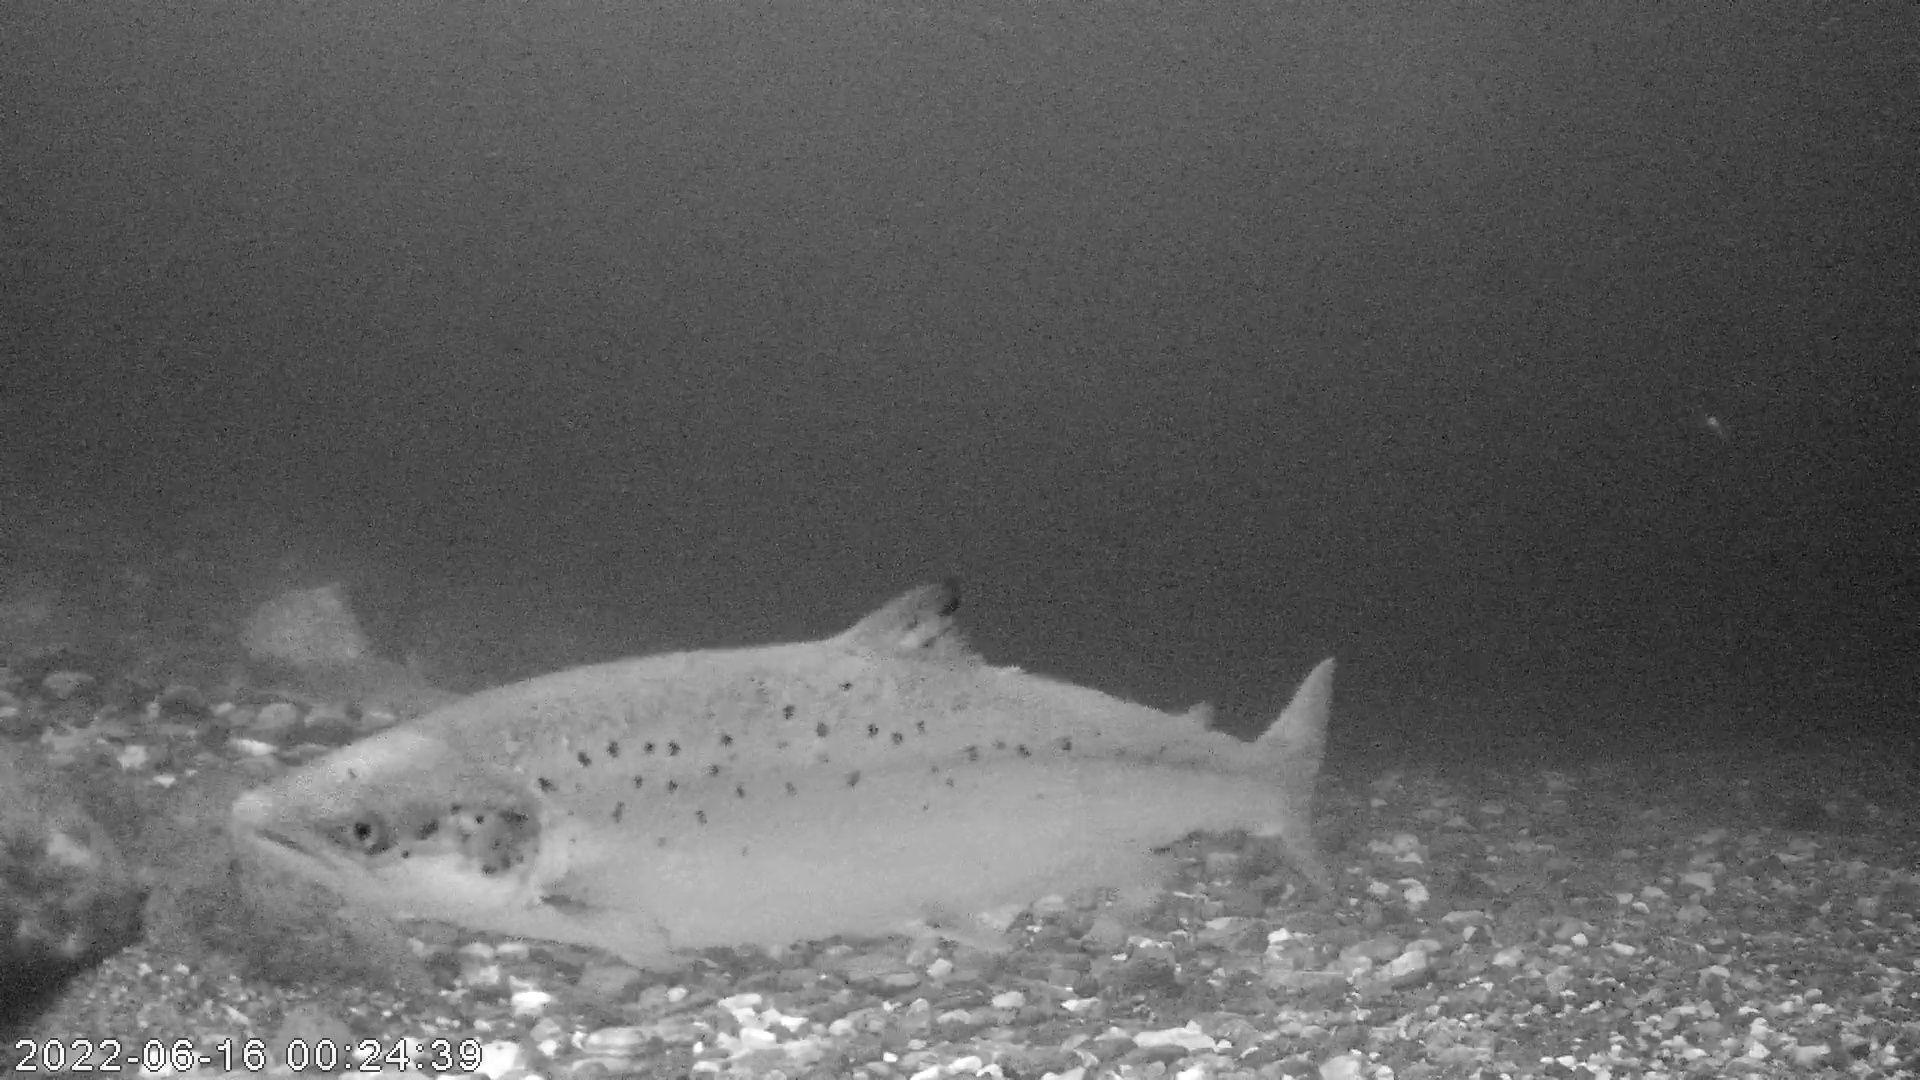salmon: (229, 574, 1342, 977)
